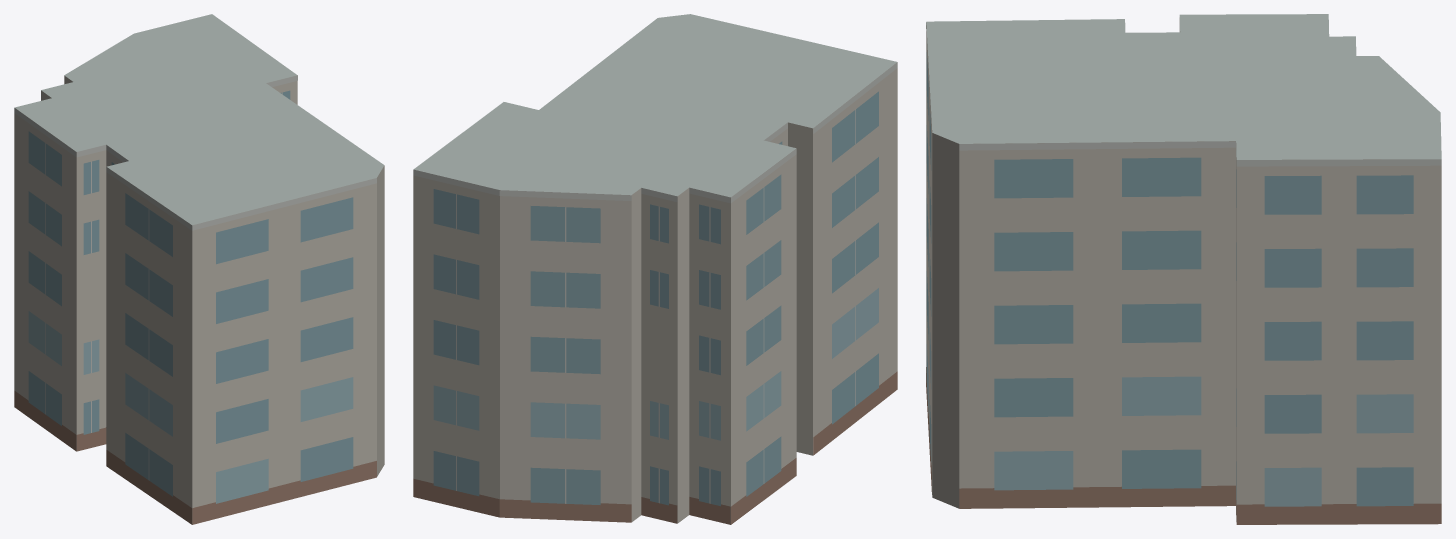
The model's file is survey-upis-32730071.glb.
3 views of the same model, side by side, from view 1: azimuth 30°, elevation 25°; view 2: azimuth 150°, elevation 25°; view 3: azimuth 270°, elevation 25° (orthographic). The views are drawn at different scales.
Visible parts, largest first — view 1: survey-upis-32730071.tmp; view 2: survey-upis-32730071.tmp; view 3: survey-upis-32730071.tmp.
Boxes of the visible parts, box(x1,y1,x2,y2) form: survey-upis-32730071.tmp: box(14, 14, 384, 524); survey-upis-32730071.tmp: box(413, 14, 897, 524); survey-upis-32730071.tmp: box(926, 14, 1441, 524).
Bounding box in the file's own units: 11.51 × 13.4 × 17.17.
